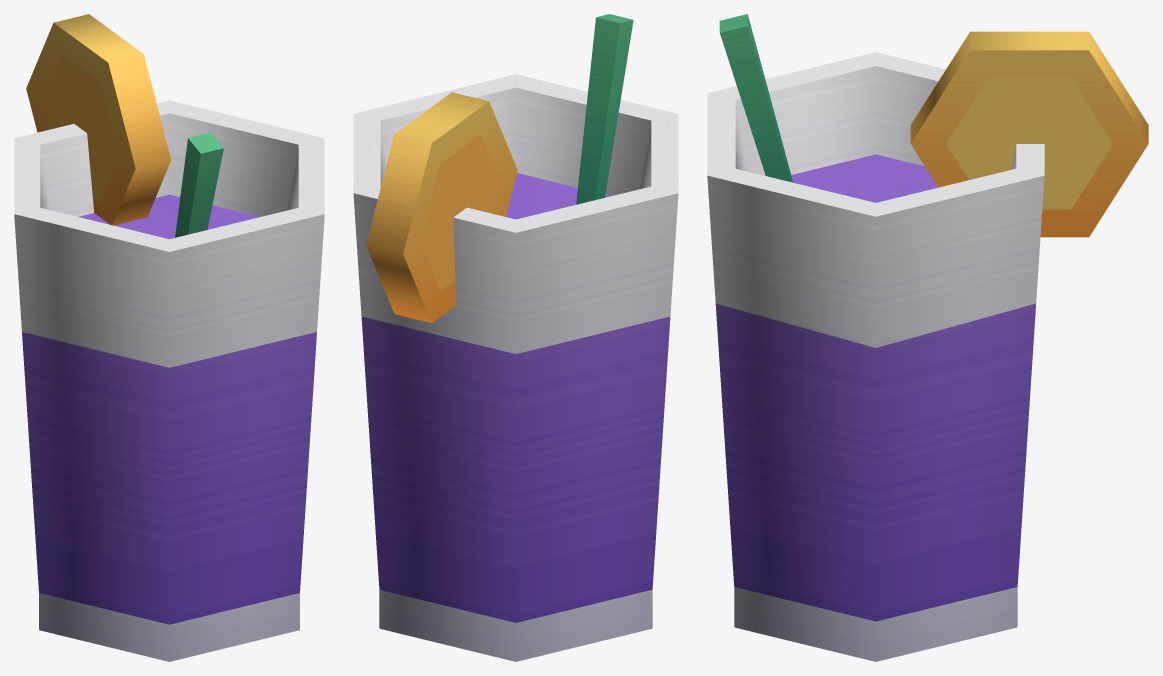
Rendered from soda-glass.glb.
3 views of the same model, side by side, from view 1: azimuth 30°, elevation 25°; view 2: azimuth 150°, elevation 25°; view 3: azimuth 270°, elevation 25° (orthographic). The views are drawn at different scales.
Visible parts, largest first — view 1: soda-glass, lemon, straw; view 2: soda-glass, lemon, straw; view 3: soda-glass, lemon, straw.
Boxes of the visible parts, bbox=[...] form: soda-glass: bbox=[14, 100, 324, 661]; lemon: bbox=[26, 14, 170, 225]; straw: bbox=[175, 132, 223, 237]; soda-glass: bbox=[353, 74, 678, 661]; lemon: bbox=[366, 92, 517, 323]; straw: bbox=[576, 14, 633, 204]; soda-glass: bbox=[707, 52, 1044, 661]; lemon: bbox=[910, 31, 1148, 237]; straw: bbox=[719, 14, 793, 182].
Bounding box in the file's own units: 0.2618 × 0.4134 × 0.2967.
Materials: 1 (1 with a texture image).
